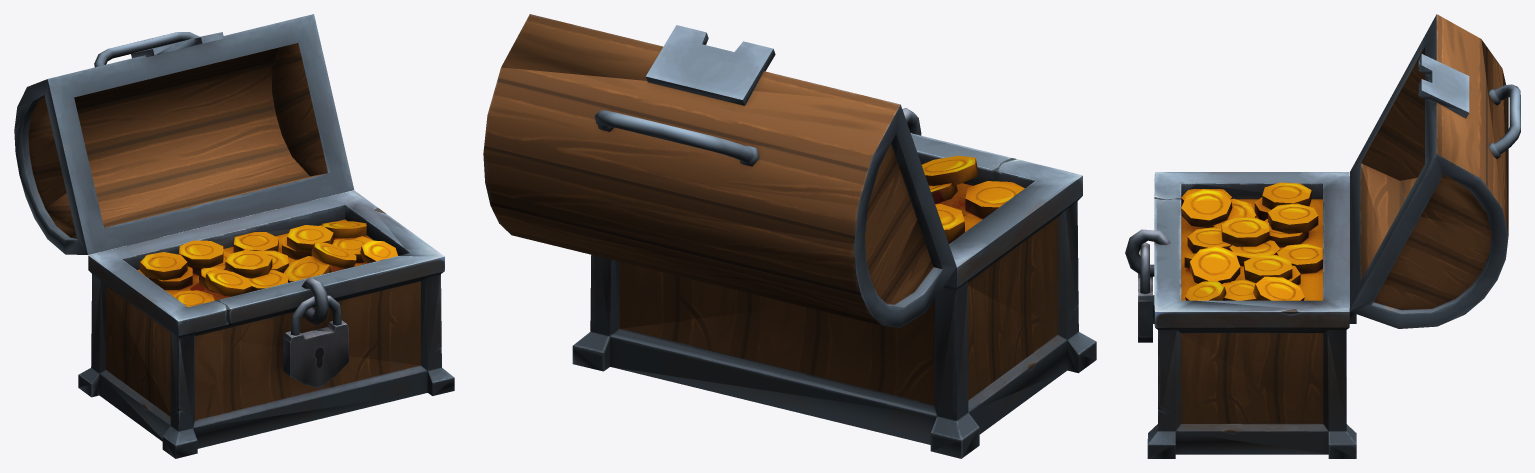
Rendered from ar_treasure_chest_0505a.gltf.
3 renders of one model, left to right at view 1: azimuth 30°, elevation 25°; view 2: azimuth 150°, elevation 25°; view 3: azimuth 270°, elevation 25°, orthographic. The views are drawn at different scales.
Visible parts, largest first — view 1: Chest.2, Chest.1, Chest.3, Chest.5, Chest.29, Chest.18, Chest.17, Chest.21, Chest.19, Chest.10, Chest.20, Chest.25 (+9 smaller); view 2: Chest.2, Chest.1, Chest.28, Chest.29, Chest.16, Chest.21, Chest.5; view 3: Chest.1, Chest.2, Chest.28, Chest.21, Chest.10, Chest.17, Chest.18, Chest.29, Chest.19, Chest.5, Chest.13, Chest.14 (+9 smaller).
Part boxes in pixels (x1=…): Chest.2: x1=14, y1=14, x2=354, y2=254; Chest.1: x1=78, y1=190, x2=454, y2=458; Chest.3: x1=283, y1=320, x2=348, y2=388; Chest.5: x1=140, y1=252, x2=187, y2=280; Chest.29: x1=94, y1=32, x2=199, y2=67; Chest.18: x1=225, y1=250, x2=272, y2=278; Chest.17: x1=179, y1=240, x2=223, y2=267; Chest.21: x1=204, y1=269, x2=252, y2=296; Chest.19: x1=287, y1=225, x2=333, y2=252; Chest.10: x1=311, y1=242, x2=356, y2=268; Chest.20: x1=284, y1=256, x2=331, y2=282; Chest.25: x1=301, y1=277, x2=328, y2=325; Chest.2: x1=483, y1=14, x2=956, y2=327; Chest.1: x1=572, y1=133, x2=1096, y2=458; Chest.28: x1=645, y1=25, x2=775, y2=105; Chest.29: x1=594, y1=110, x2=759, y2=166; Chest.16: x1=965, y1=181, x2=1024, y2=218; Chest.21: x1=921, y1=155, x2=977, y2=185; Chest.5: x1=935, y1=204, x2=964, y2=241; Chest.1: x1=1147, y1=172, x2=1356, y2=458; Chest.2: x1=1350, y1=14, x2=1508, y2=328; Chest.28: x1=1418, y1=54, x2=1469, y2=118; Chest.21: x1=1181, y1=189, x2=1232, y2=227; Chest.10: x1=1190, y1=246, x2=1240, y2=283; Chest.17: x1=1268, y1=203, x2=1318, y2=233; Chest.18: x1=1221, y1=217, x2=1269, y2=246; Chest.29: x1=1489, y1=84, x2=1520, y2=158; Chest.19: x1=1244, y1=255, x2=1292, y2=282; Chest.5: x1=1262, y1=182, x2=1311, y2=209; Chest.13: x1=1253, y1=276, x2=1304, y2=300; Chest.14: x1=1277, y1=243, x2=1322, y2=273.
Size of the model in its own units: 47 by 46.85 by 53.61.
Materials: 1 (1 with a texture image).
